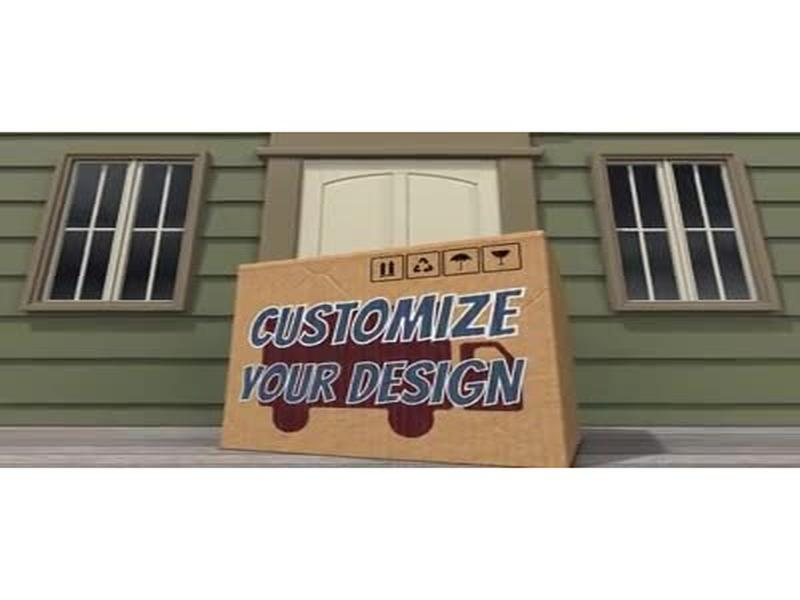package: (215, 227, 592, 468)
